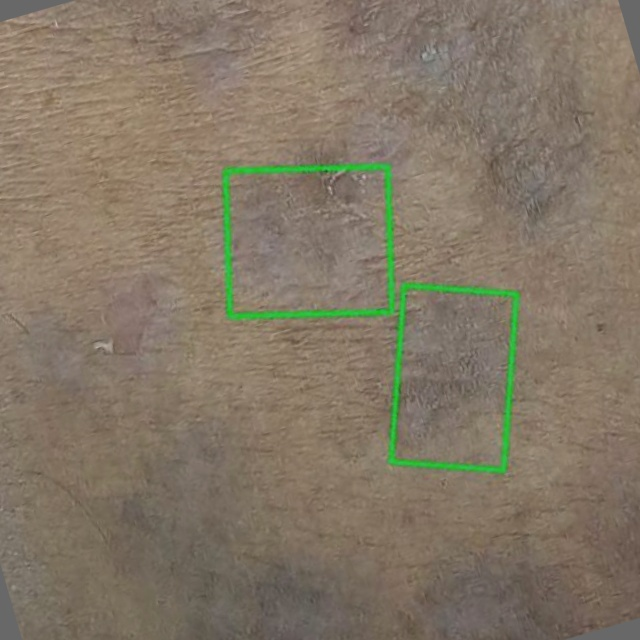Contact Dermatitis: (225, 166, 390, 315), (390, 285, 515, 469)
